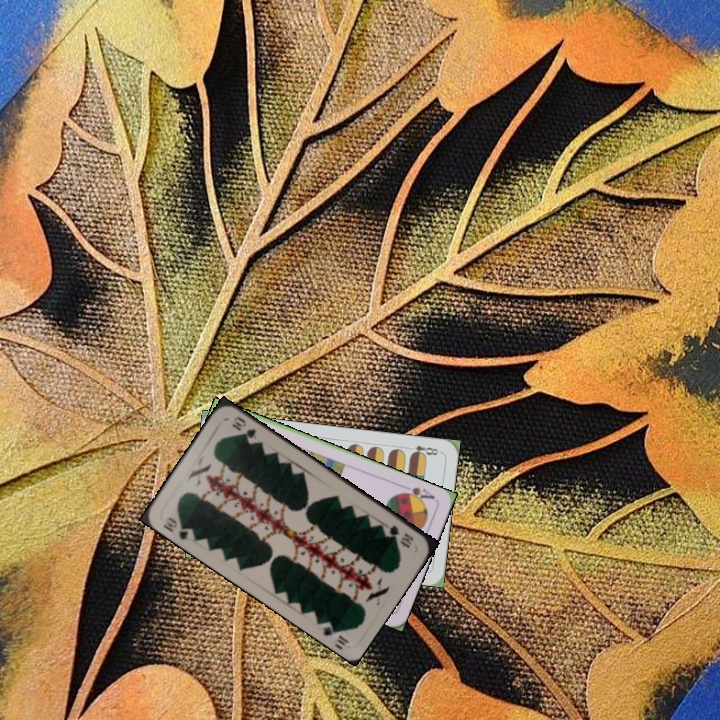E8: (407, 441, 443, 459)
G10: (159, 513, 197, 543), (385, 521, 416, 550)
SA: (396, 481, 437, 505)
